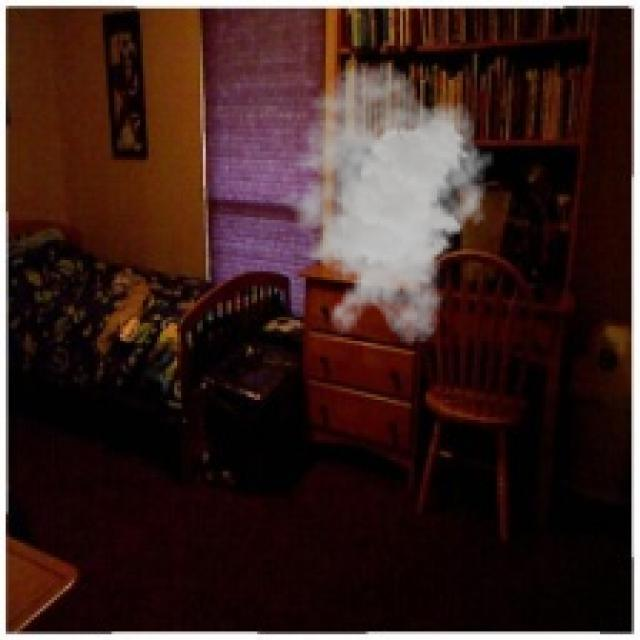Smoke: (268, 63, 494, 346)
